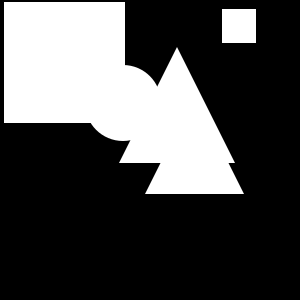circle: (4, 2, 125, 123), (222, 9, 256, 43)
rectangle: (85, 65, 161, 141)
triangle: (119, 47, 235, 163), (145, 95, 244, 194)
